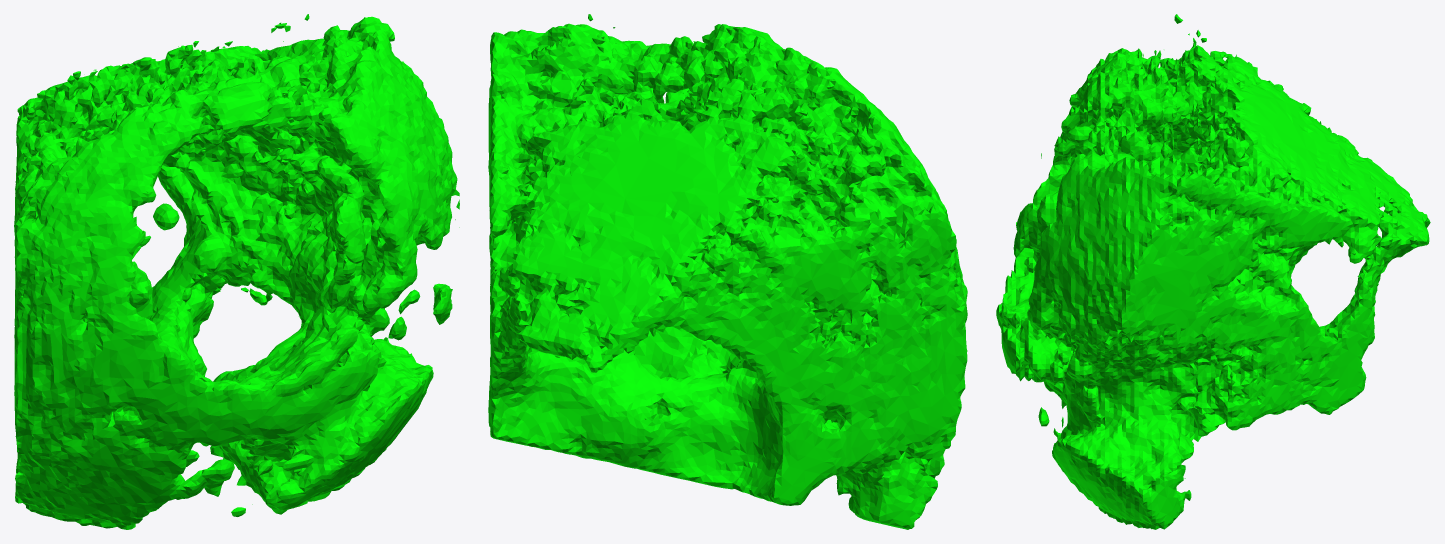
Rendered from B939XXXX-1_base_18.obj.
The picture shows the model from 3 angles, left to right: view 1: azimuth 30°, elevation 25°; view 2: azimuth 150°, elevation 25°; view 3: azimuth 270°, elevation 25°; orthographic projection. The views are drawn at different scales.
Visible parts, largest first — view 1: 18_base; view 2: 18_base; view 3: 18_base.
Part boxes in pixels (x1=…): 18_base: x1=14, y1=14, x2=459, y2=529; 18_base: x1=488, y1=14, x2=967, y2=529; 18_base: x1=996, y1=14, x2=1430, y2=529.
Size of the model in its own units: 219 by 216 by 205.
